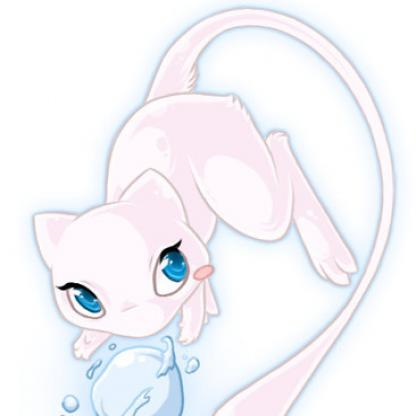Mew: (4, 2, 416, 416)
